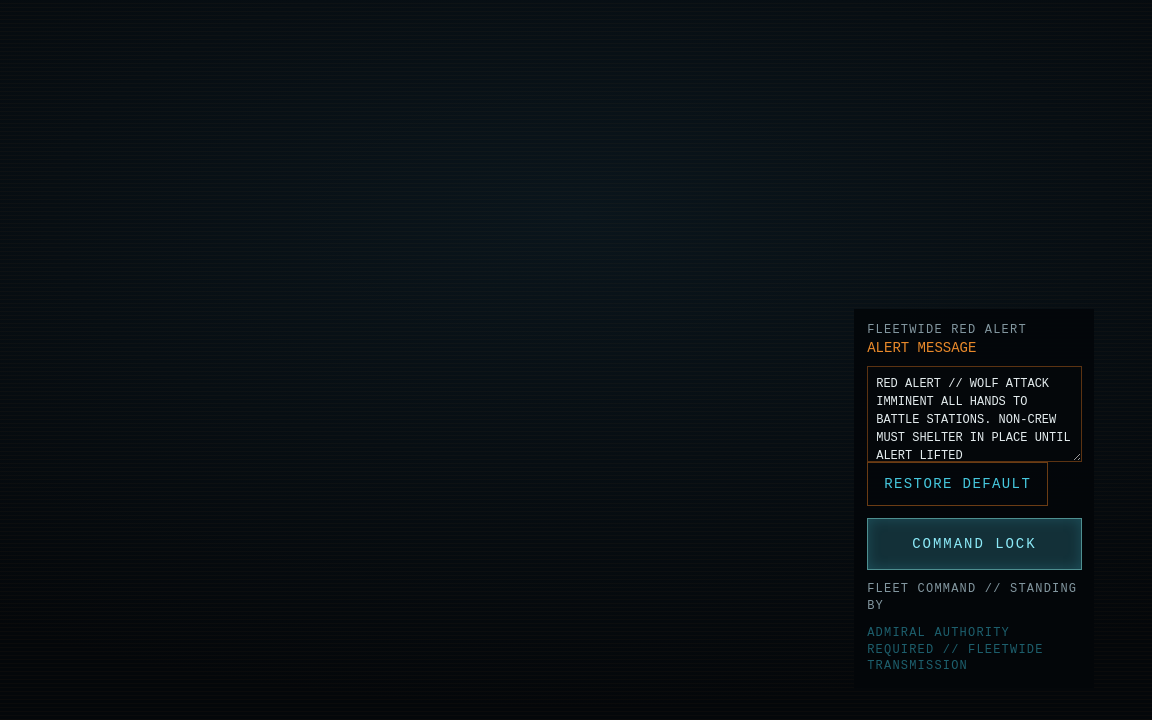
disables offline commands and reports server failures
What coordinates should you click on to do the following:
click the button with aria-label "OPEN RED ALERT COMMAND COVER"
I would click on:
 (974, 544)
Its box is x1=867 y1=518 x2=1082 y2=570.
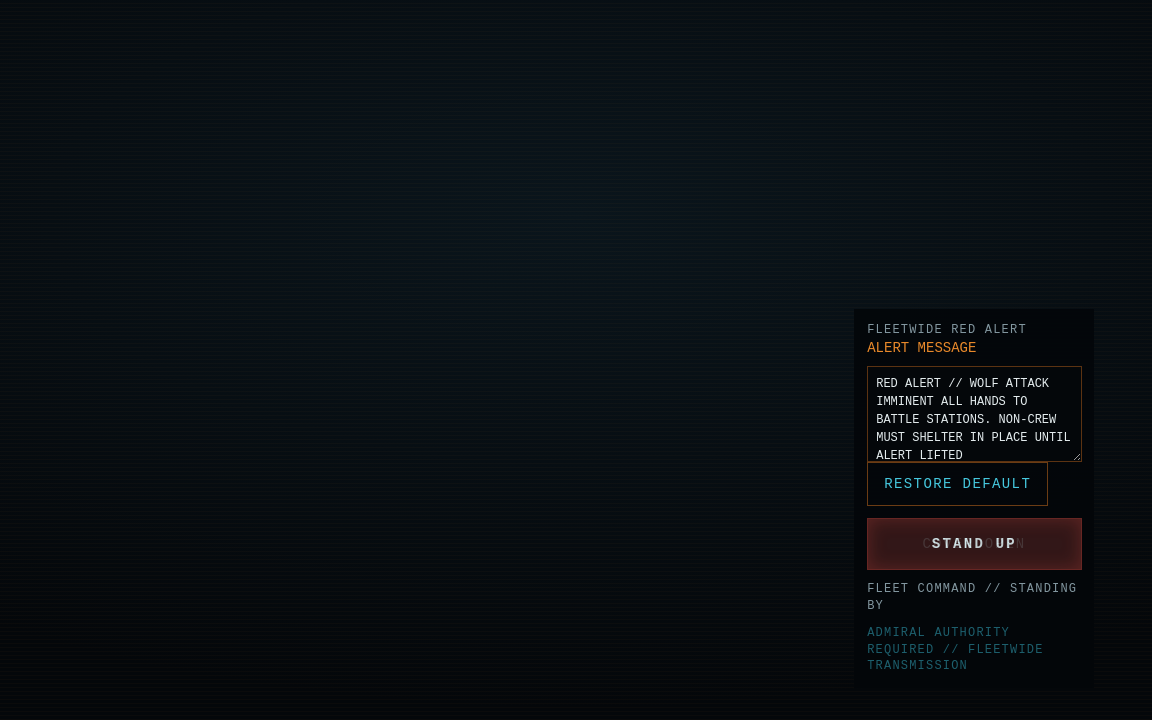
What coordinates should you click on to do the following:
click the button with aria-label "RAISE FLEETWIDE RED ALERT"
I would click on:
 (974, 544)
Its box is x1=867 y1=518 x2=1082 y2=570.
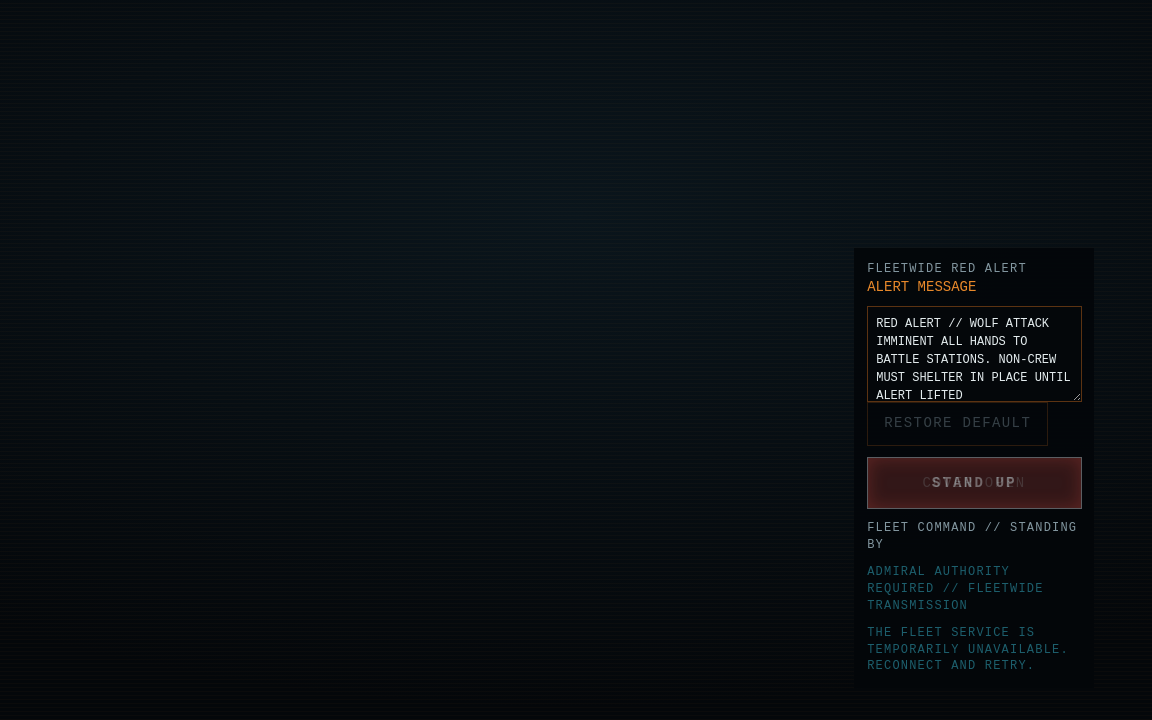
expect the message shows "FLEET SERVICE IS TEMPORARILY UNAVAILABLE": met, box x1=867 y1=626 x2=1069 y2=673
expect the button with aria-label "RAISE FLEETWIDE RED ALERT" is disabled: met, box x1=867 y1=457 x2=1082 y2=509
